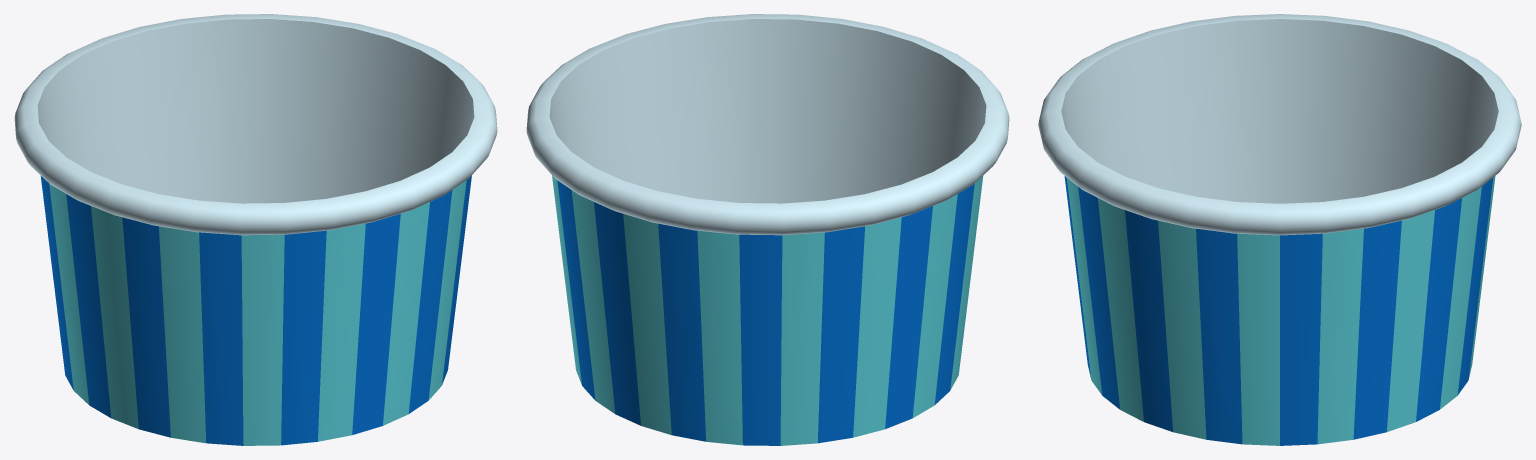
File: Cup Ice Cream L.fbx
3 renders of one model, left to right at view 1: azimuth 30°, elevation 25°; view 2: azimuth 150°, elevation 25°; view 3: azimuth 270°, elevation 25°, orthographic.
Visible parts, largest first — view 1: Cup Ice Cream L; view 2: Cup Ice Cream L; view 3: Cup Ice Cream L.
Boxes of the visible parts, x1,y1,x2,y2 form: Cup Ice Cream L: (14, 14, 497, 445); Cup Ice Cream L: (526, 14, 1009, 445); Cup Ice Cream L: (1038, 14, 1521, 445).
Bounding box in the file's own units: 0.7274 × 0.4205 × 0.7274.
